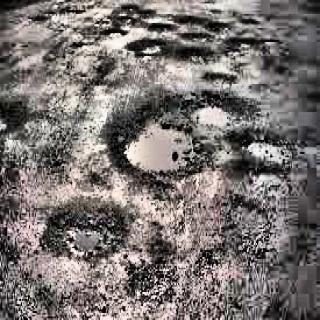pothole: (112, 109, 202, 184), (36, 196, 136, 262), (221, 188, 276, 260), (126, 248, 178, 308), (182, 91, 260, 129), (236, 132, 296, 164), (224, 31, 278, 63), (0, 91, 29, 140), (126, 34, 170, 65), (110, 0, 156, 26), (174, 10, 230, 31), (172, 44, 218, 67), (198, 70, 242, 89), (144, 18, 177, 32), (176, 33, 214, 44), (104, 26, 127, 43), (25, 13, 50, 27)
